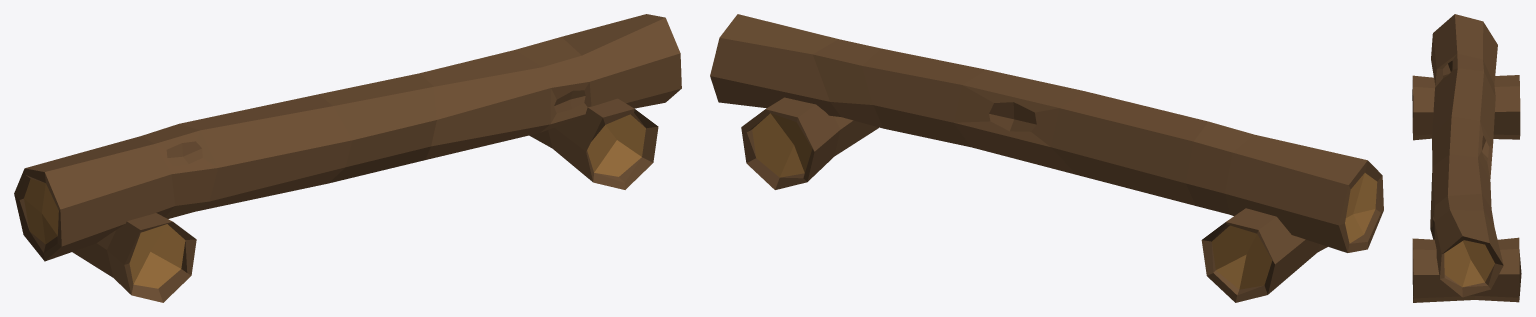
Rendered from props-log-bench-long.glb.
3 views of the same model, side by side, from view 1: azimuth 30°, elevation 25°; view 2: azimuth 150°, elevation 25°; view 3: azimuth 270°, elevation 25° (orthographic). The views are drawn at different scales.
Visible parts, largest first — view 1: log-bench-long; view 2: log-bench-long; view 3: log-bench-long.
Boxes of the visible parts, x1,y1,x2,y2 form: log-bench-long: [14, 14, 681, 302]; log-bench-long: [710, 14, 1383, 302]; log-bench-long: [1412, 14, 1521, 302].
Bounding box in the file's own units: 2.22 × 0.4498 × 0.4624.
